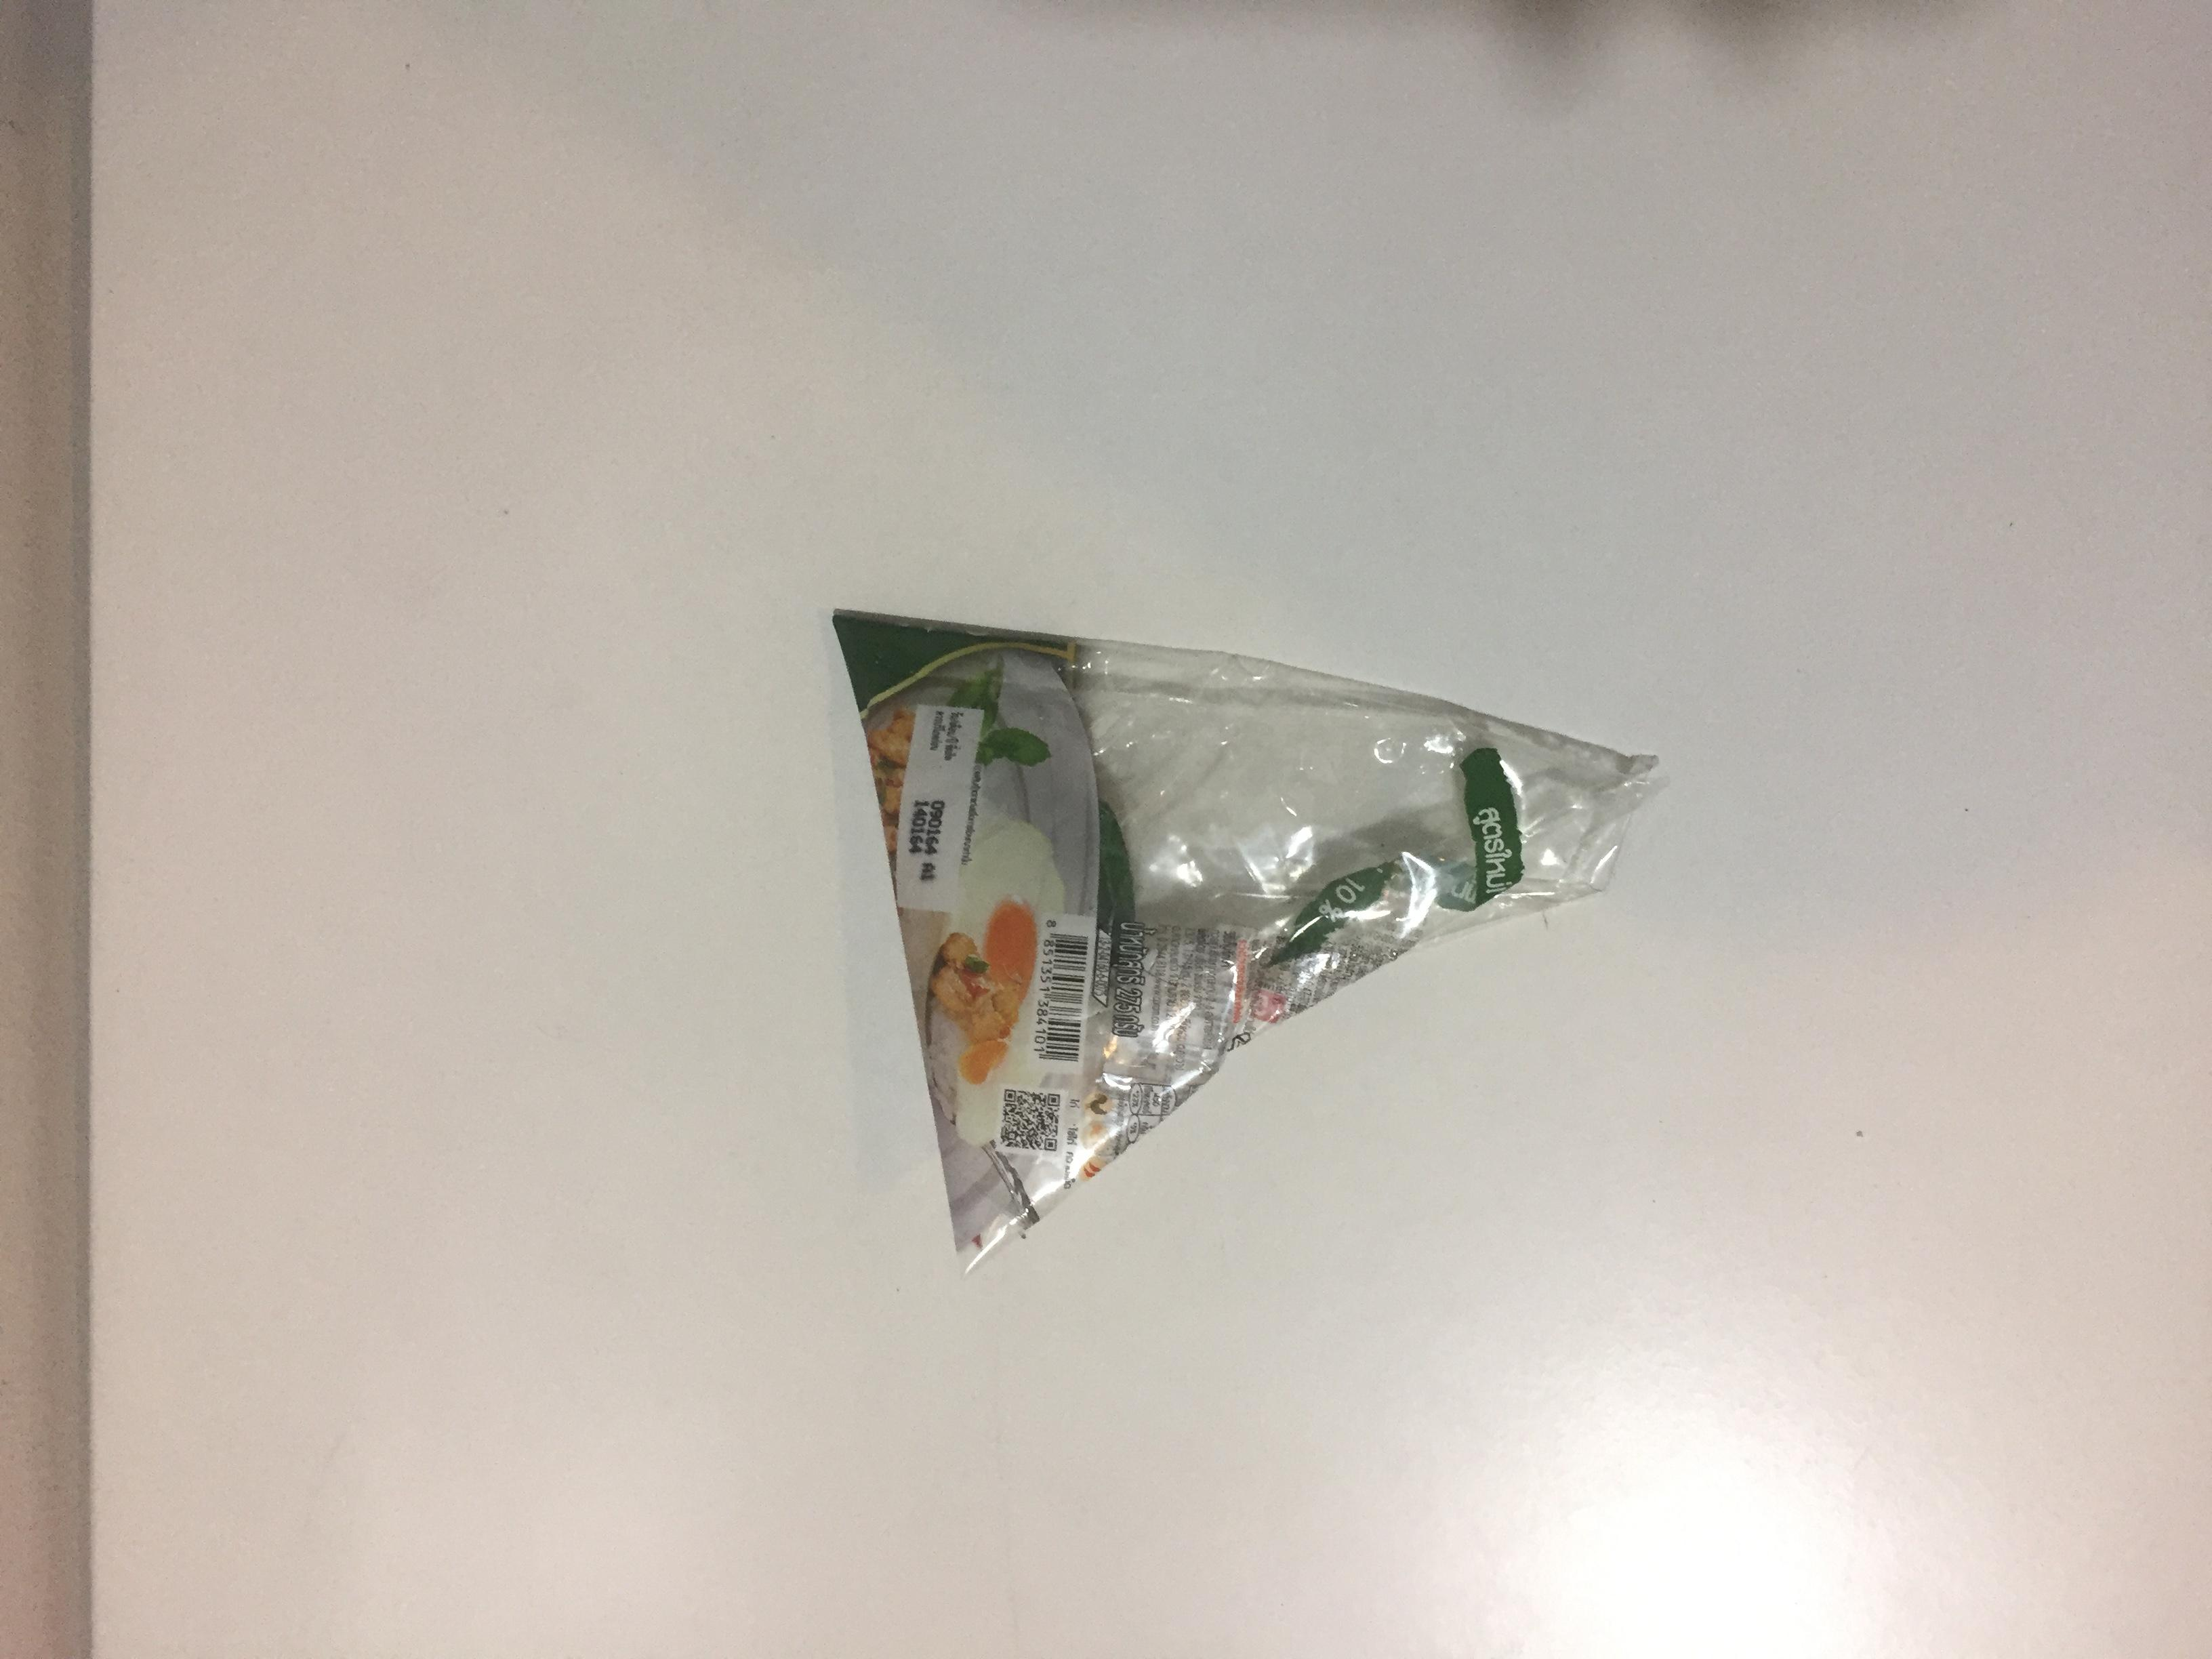plastic: (463, 606, 1460, 1265)
